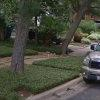Car: (77, 39, 99, 80)
